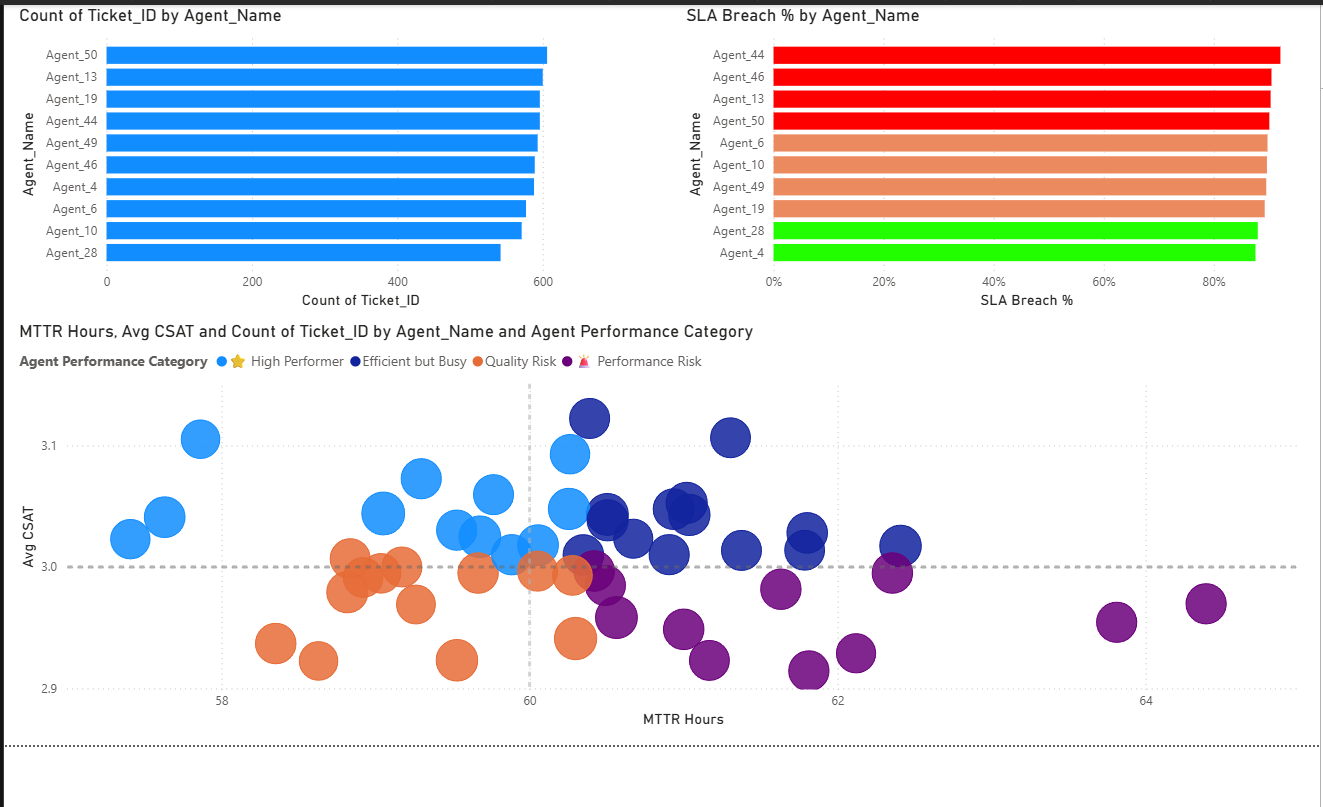

The page's visual inventory and layout, read from the dashboard file:
{"tool":"powerbi","page":{"name":"Agent Performance","canvas":[1280,720],"ordinal":2},"visuals":[{"type":"clusteredBarChart","fields":{"Category":["Tickets.Agent_Name"],"Y":["CountNonNull(Tickets.Ticket_ID)"]},"box":[9.7,0,432.8,296.7],"z":0},{"type":"clusteredBarChart","fields":{"Category":["Tickets.Agent_Name"],"Y":["Tickets.SLA Breach %"]},"box":[521.3,0,432.8,296.7],"z":1},{"type":"scatterChart","fields":{"X":["Tickets.MTTR Hours"],"Y":["Tickets.Avg CSAT"],"Size":["CountNonNull(Tickets.Ticket_ID)"],"Category":["Tickets.Agent_Name"],"Series":["Tickets.Agent Performance Category"]},"box":[9.7,307.4,484.4,358.9],"z":2}]}

Visuals, with their boxes on the page's 1280x720 design canvas (x1, y1, x2, y2). These are canvas units, not pixel positions in the 1323x807 screenshot, which may show the page scaled, cropped or inside an application window:
clusteredBarChart - Tickets.Agent_Name x CountNonNull(Tickets.Ticket_ID): 10 0 442 297
clusteredBarChart - Tickets.Agent_Name x Tickets.SLA Breach %: 521 0 954 297
scatterChart - Tickets.MTTR Hours x Tickets.Avg CSAT: 10 307 494 666
